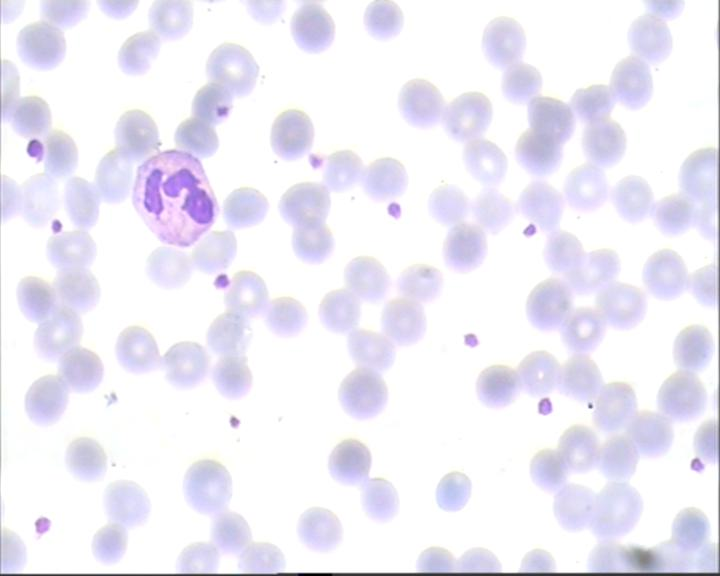neut: (129, 146, 223, 251)
